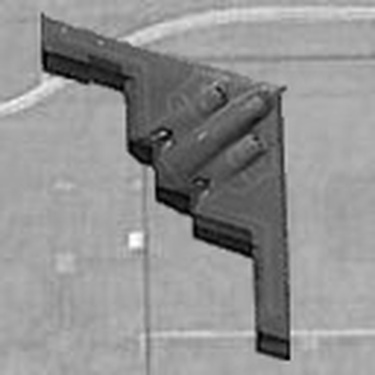airplane: (12, 4, 313, 359)
